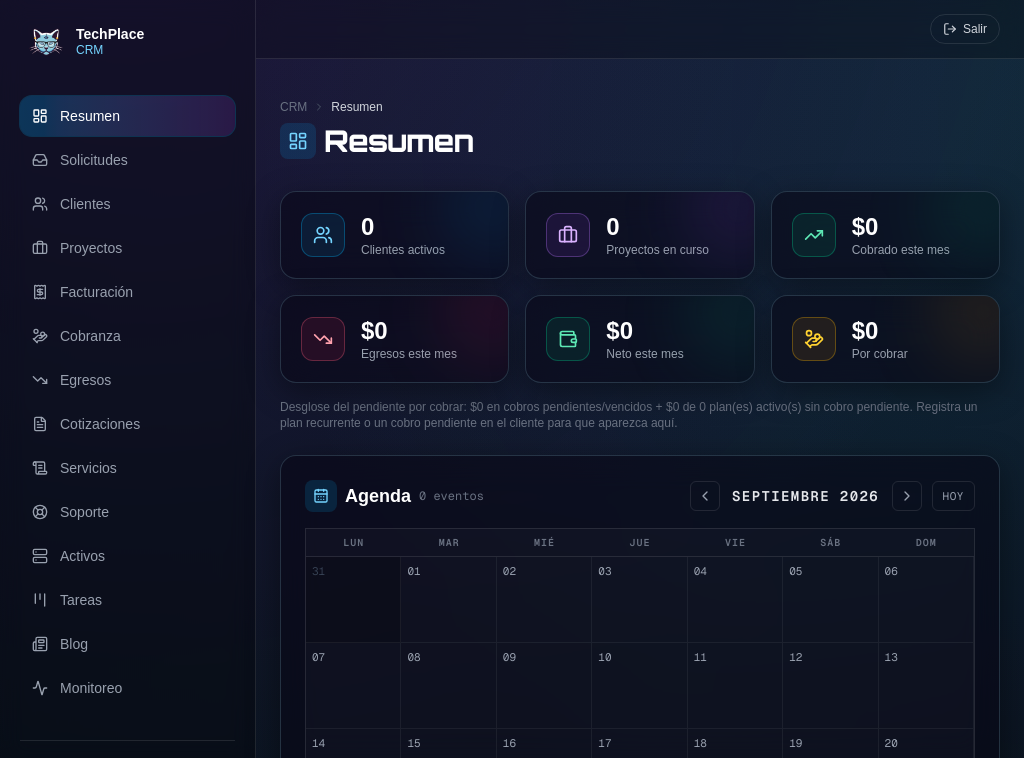
it: CrmDashboard › switches to Clientes when that nav item is clicked
Click the button "Clientes" at (128, 204), box [20, 184, 235, 224]
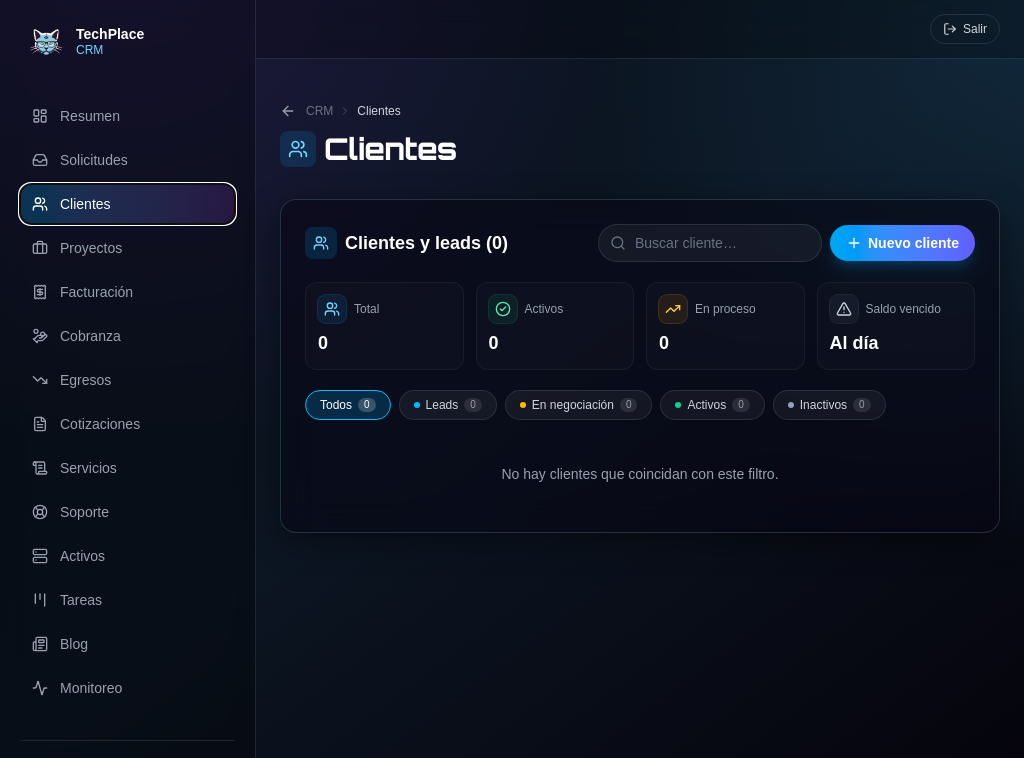
Expected: the heading "Clientes y leads (0)" is shown, [305, 227, 508, 259]
